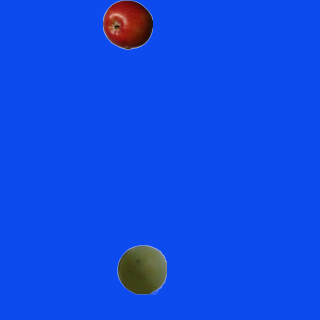Apple Braeburn: (102, 0, 152, 49)
Grape White 4: (116, 244, 166, 294)
